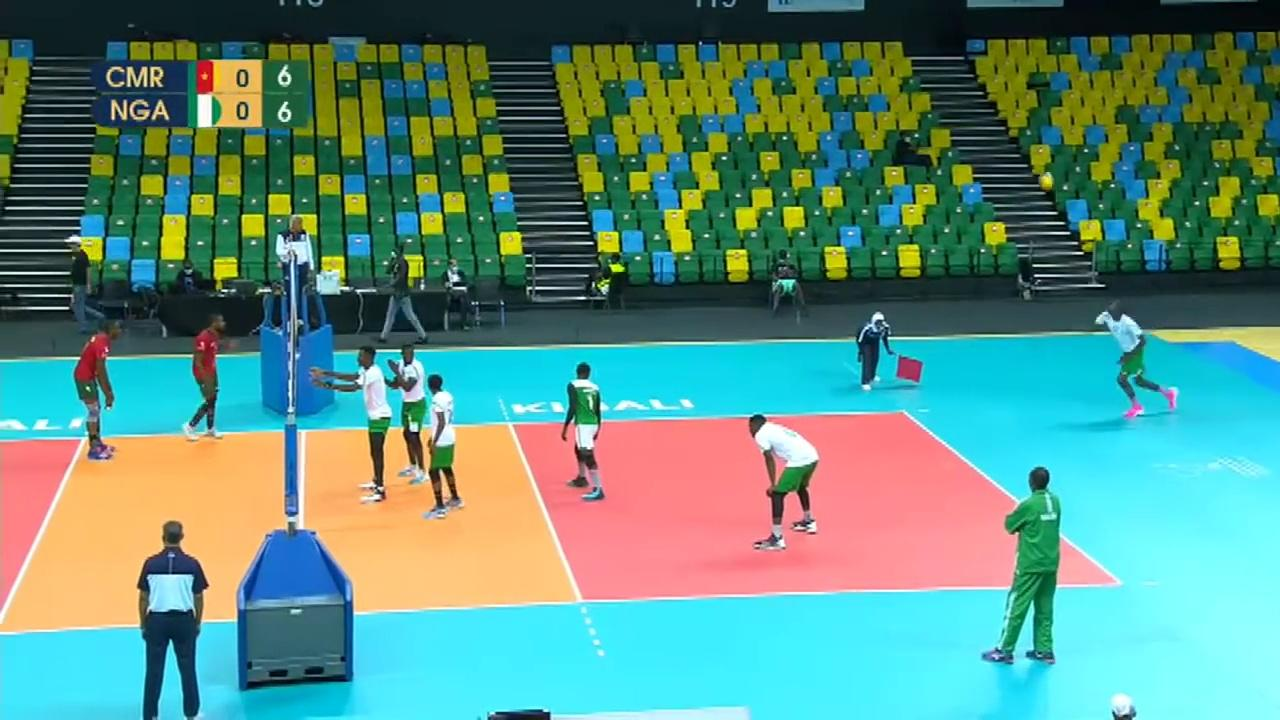player: (320, 349, 402, 498), (751, 417, 821, 546), (1101, 305, 1180, 416), (388, 335, 435, 484), (558, 363, 606, 497), (74, 323, 119, 458), (417, 375, 460, 515), (183, 314, 227, 437)
refree: (133, 525, 208, 717), (273, 214, 314, 317), (859, 310, 897, 392)
